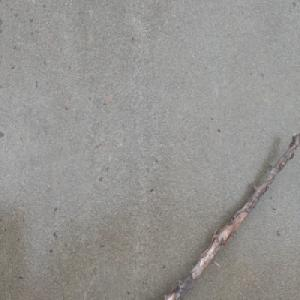Wood: (160, 131, 300, 299)
